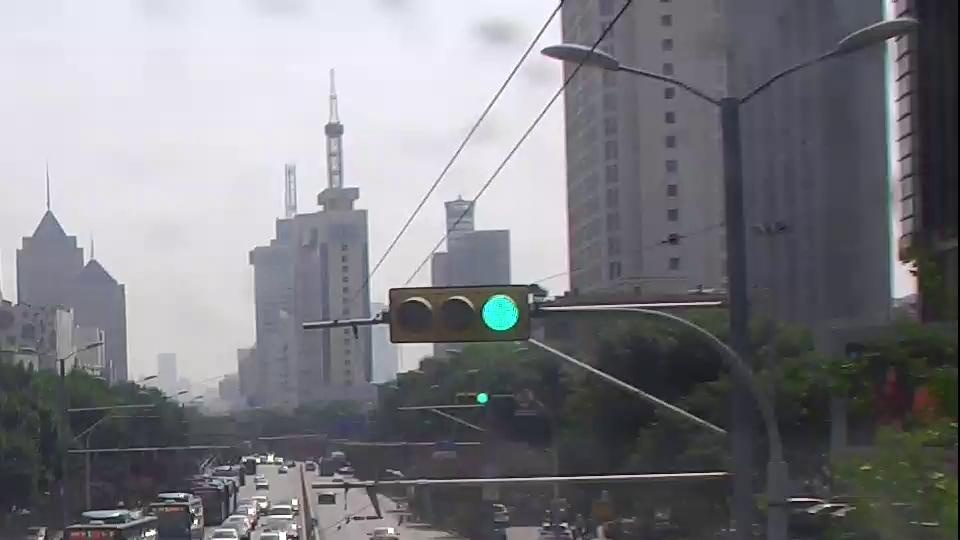green: (479, 290, 522, 335), (477, 389, 491, 404)
